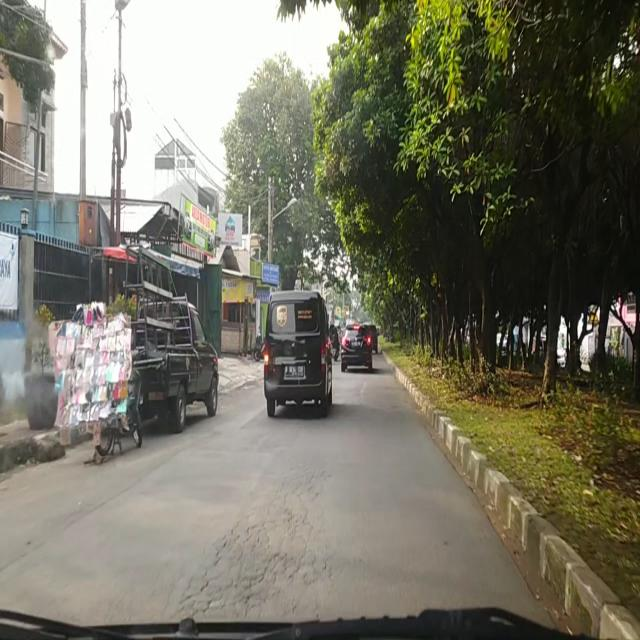Drain Hole: (176, 472, 336, 615)
